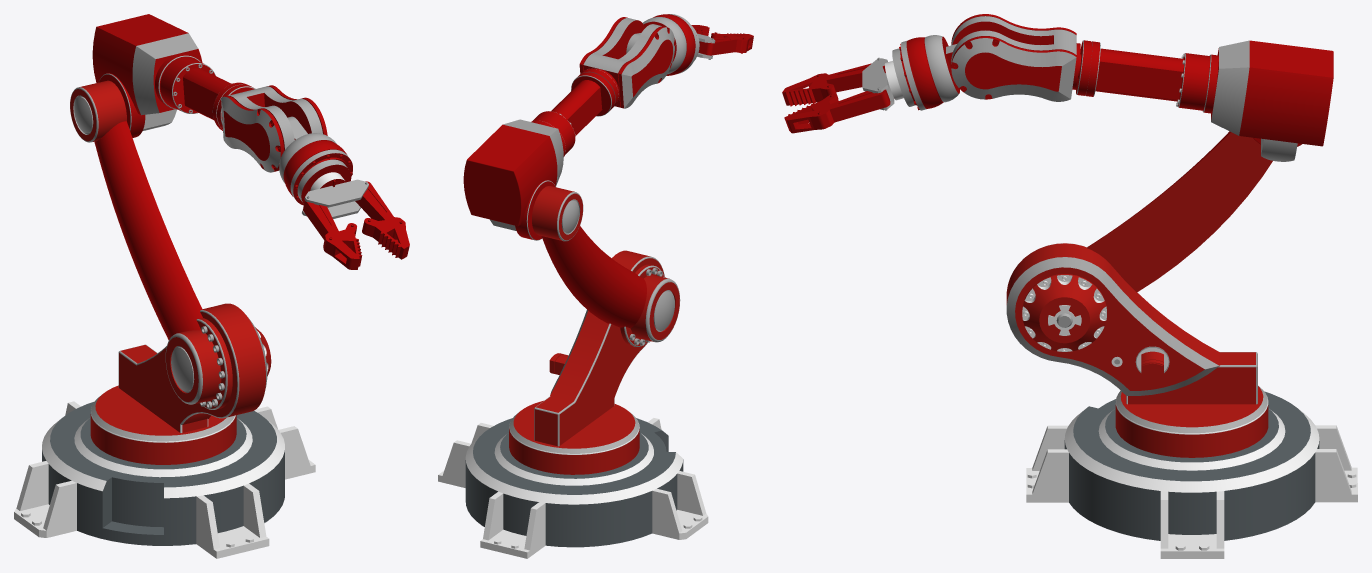
File: RobotArm.glb
The picture shows the model from 3 angles, left to right: view 1: azimuth 30°, elevation 25°; view 2: azimuth 150°, elevation 25°; view 3: azimuth 270°, elevation 25°; orthographic projection. The views are drawn at different scales.
Parts seen in each view (by area): view 1: Solid1, Solid1.002, Solid1.001, Solid1.003, Solid1.004, Solid1.006, Solid1.005, Solid1.007, Solid1.008; view 2: Solid1, Solid1.001, Solid1.003, Solid1.002, Solid1.004, Solid1.005, Solid1.008; view 3: Solid1, Solid1.001, Solid1.003, Solid1.002, Solid1.004, Solid1.005, Solid1.007, Solid1.008, Solid1.006.
Part boxes in pixels (<box>): Solid1: <box>14,401,315,558</box>; Solid1.002: <box>70,80,232,409</box>; Solid1.001: <box>90,303,271,464</box>; Solid1.003: <box>92,14,255,137</box>; Solid1.004: <box>221,85,327,172</box>; Solid1.006: <box>297,159,368,218</box>; Solid1.005: <box>279,116,352,205</box>; Solid1.007: <box>355,181,409,259</box>; Solid1.008: <box>303,200,362,269</box>; Solid1: <box>438,418,708,558</box>; Solid1.001: <box>509,250,664,474</box>; Solid1.003: <box>463,68,618,240</box>; Solid1.002: <box>532,186,680,346</box>; Solid1.004: <box>579,17,675,108</box>; Solid1.005: <box>626,14,697,75</box>; Solid1.008: <box>698,32,753,55</box>; Solid1: <box>1026,391,1357,558</box>; Solid1.001: <box>1006,243,1268,457</box>; Solid1.003: <box>1076,40,1333,161</box>; Solid1.002: <box>1087,131,1272,292</box>; Solid1.004: <box>951,14,1081,101</box>; Solid1.005: <box>899,35,959,110</box>; Solid1.007: <box>784,89,890,133</box>; Solid1.008: <box>782,63,871,106</box>; Solid1.006: <box>862,48,915,110</box>.
Size of the model in its own units: 39.07 by 61.88 by 67.83.
